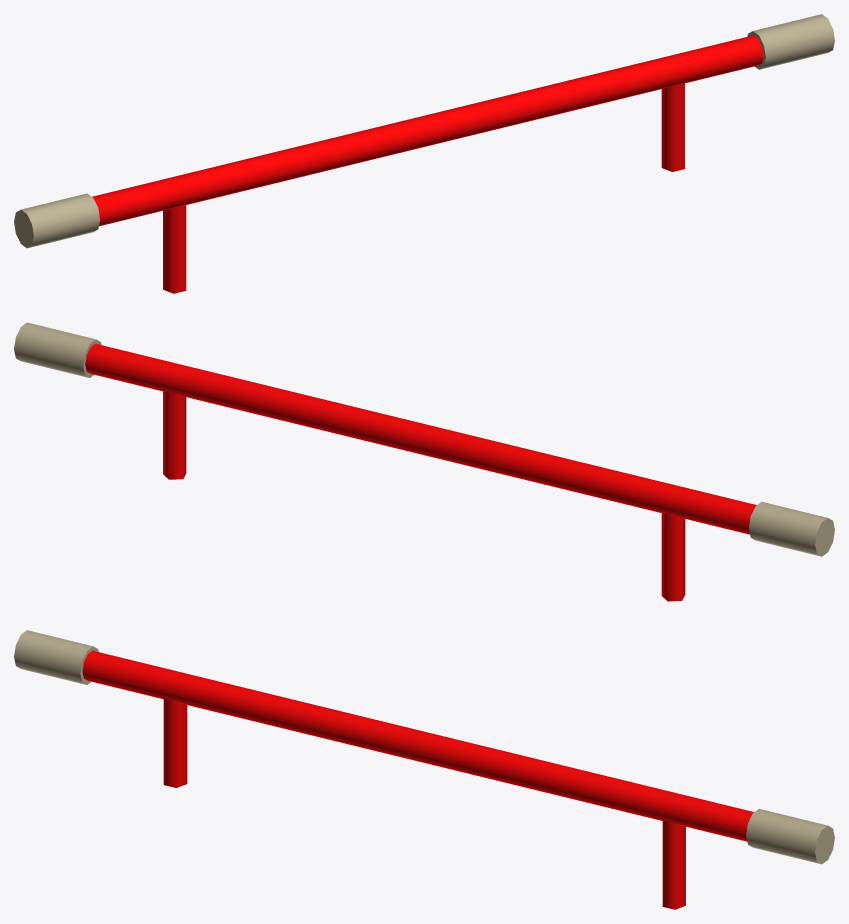
3 views of the same model, one above another, from view 1: azimuth 30°, elevation 25°; view 2: azimuth 150°, elevation 25°; view 3: azimuth 330°, elevation 25° (orthographic).
Visible parts, largest first — view 1: SM_Tube_01; view 2: SM_Tube_01; view 3: SM_Tube_01.
Part boxes in pixels (x1=…): SM_Tube_01: x1=14, y1=14, x2=834, y2=293; SM_Tube_01: x1=14, y1=322, x2=834, y2=601; SM_Tube_01: x1=14, y1=630, x2=834, y2=909.
Size of the model in its own units: 174 by 23.54 by 7.48.
Materials: 1 (1 with a texture image).
